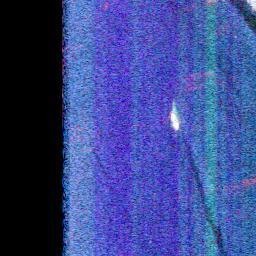Ship: (168, 107, 181, 132)
